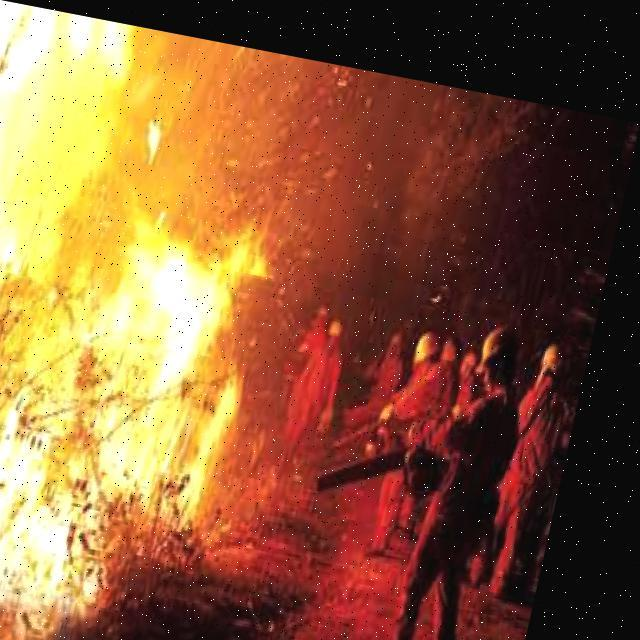Fire: (0, 0, 338, 639)
